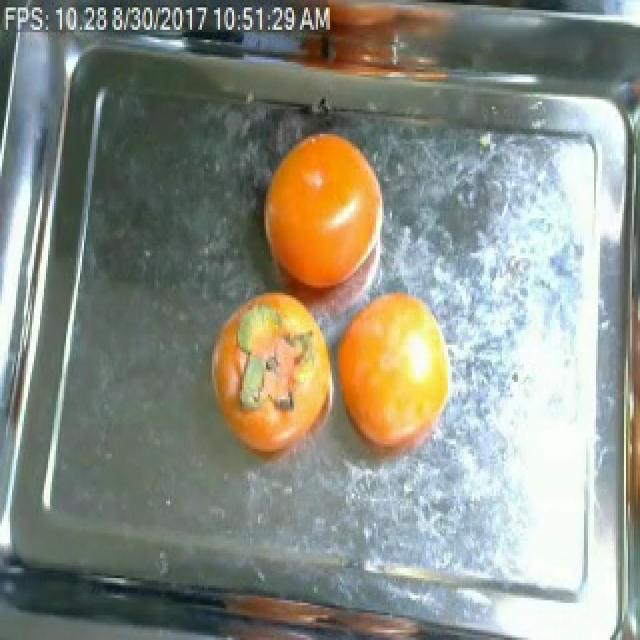Fruit: (244, 114, 398, 310), (328, 270, 466, 477), (214, 275, 338, 454)
